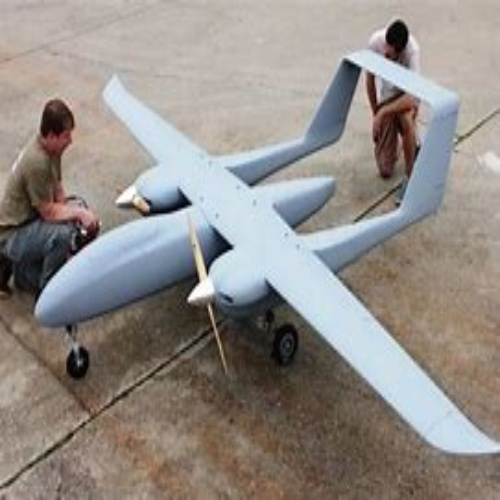uav: (35, 51, 498, 461)
